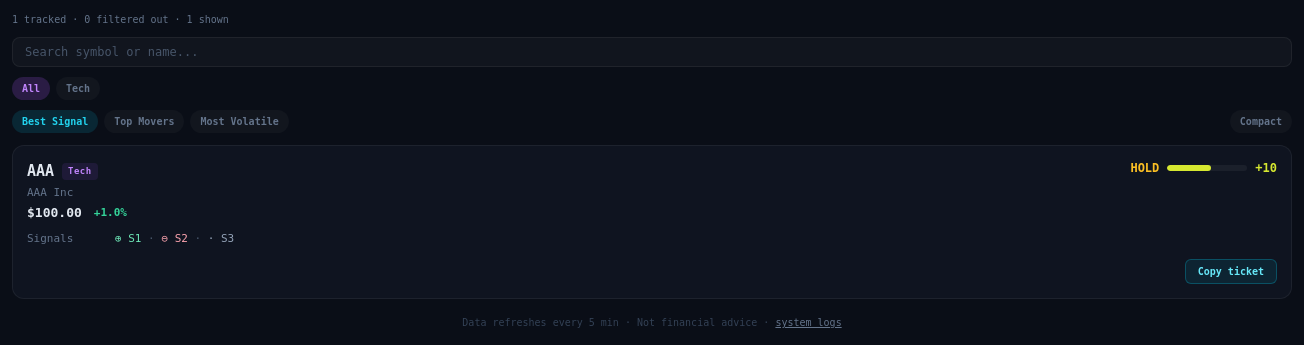
Test: ScannerView › view-mode toggle (Phase 14) › switches mode when the toggle button is clicked and persists to localStorage
Check: the button "Copy ticket" is shown, box [1185,259,1277,284]
Step 1. Click the button "Compact" → (1261, 122), box [1230,110,1292,133]
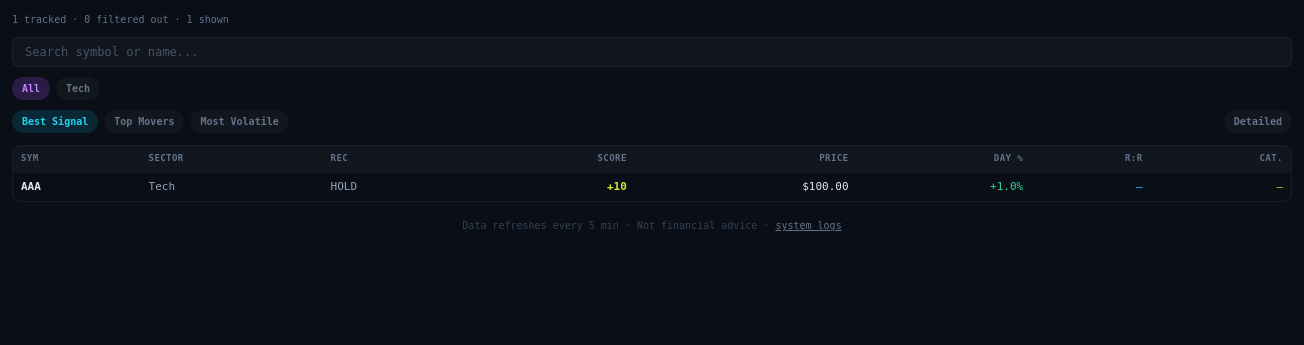
Check: the button "Copy ticket" is gone
Check: the button "Detailed" is shown
Note: Toggle back.
Step 2. Click the button "Detailed" → (1258, 122), box [1224,110,1292,133]
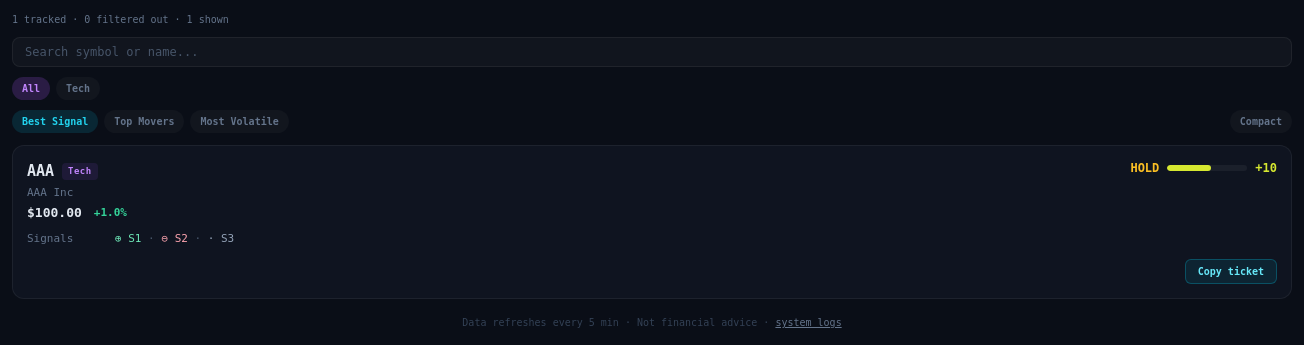
Check: the button "Copy ticket" is shown, box [1185,259,1277,284]
